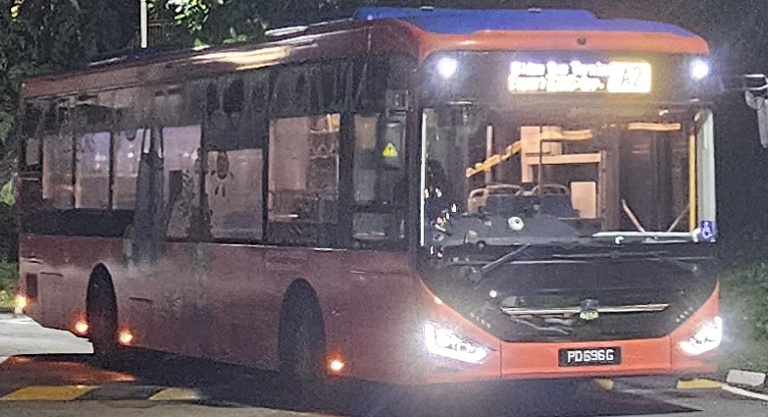bus: (607, 59, 652, 93)
